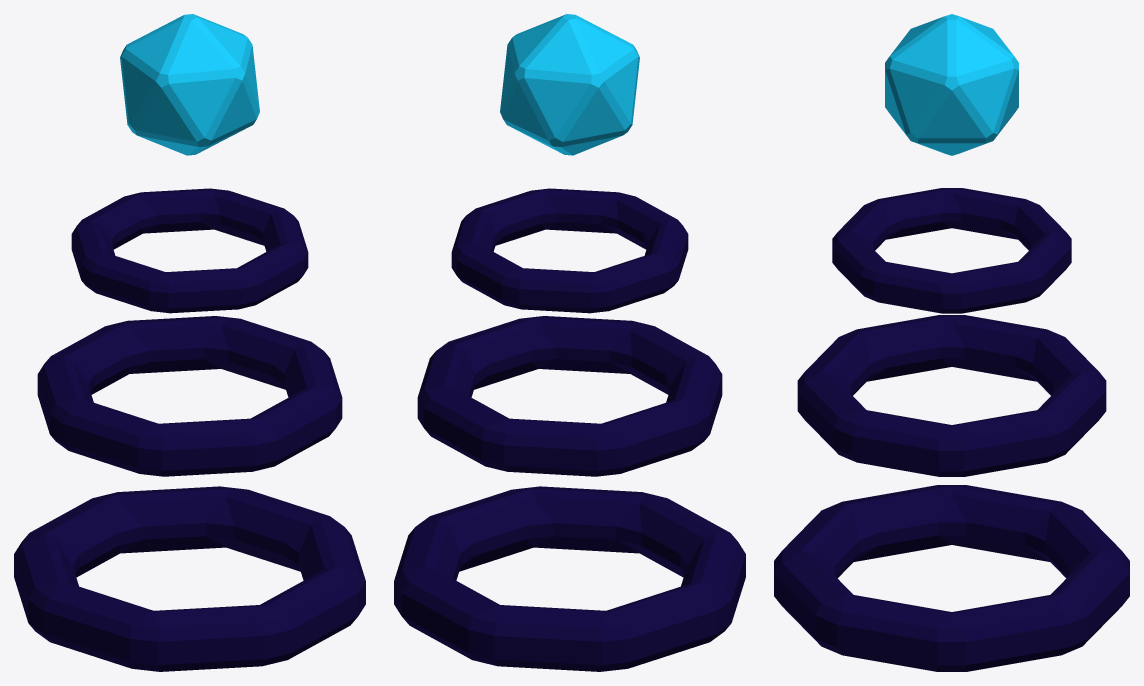
The model's file is tesla_moving.glb.
3 renders of one model, left to right at view 1: azimuth 30°, elevation 25°; view 2: azimuth 150°, elevation 25°; view 3: azimuth 270°, elevation 25°, orthographic.
Parts seen in each view (by area): view 1: Torus, Icosphere; view 2: Torus, Icosphere; view 3: Torus, Icosphere.
Boxes of the visible parts, box(x1,y1,x2,y2) form: Torus: box(14, 188, 365, 671); Icosphere: box(120, 14, 259, 155); Torus: box(394, 188, 745, 671); Icosphere: box(500, 14, 639, 155); Torus: box(774, 188, 1129, 671); Icosphere: box(885, 14, 1018, 155).
Bounding box in the file's own units: 2.2 × 4.03 × 2.2.
